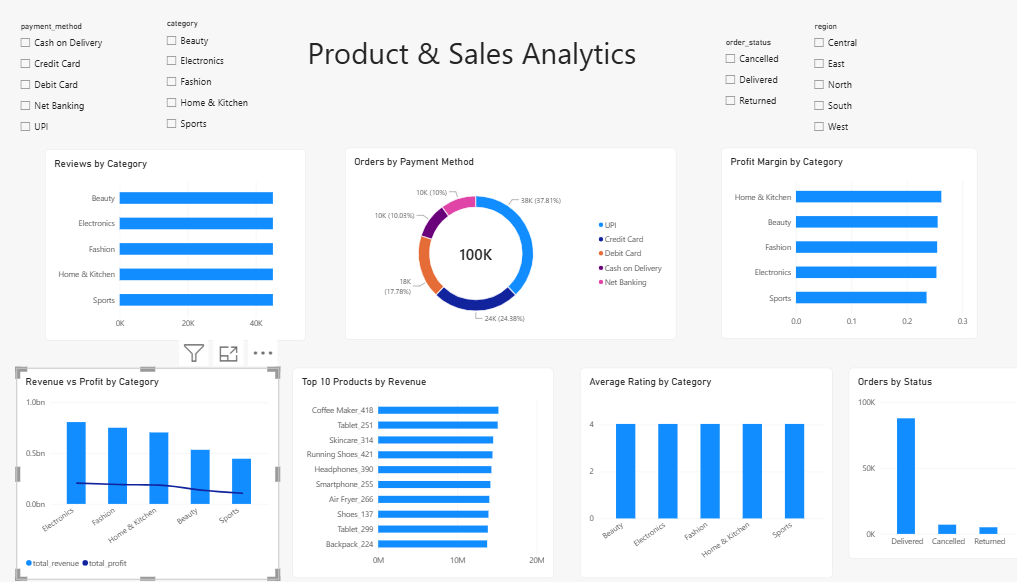

The page's visual inventory and layout, read from the dashboard file:
{"tool":"powerbi","page":{"name":"Product & Sales Analytics","canvas":[1920,1080],"ordinal":2},"visuals":[{"type":"lineClusteredColumnComboChart","title":"Revenue vs Profit by Category","fields":{"Category":["orders.category"],"Y":["orders.total_revenue"],"Y2":["orders.total_profit"]},"box":[85.1,684.9,475.4,381.8],"z":0},{"type":"barChart","title":"Top 10 Products by Revenue","fields":{"Category":["products.product_name"],"Y":["orders.total_revenue"]},"box":[586.4,680.4,475,382],"z":1},{"type":"columnChart","title":"Average Rating by Category","fields":{"Category":["orders.category"],"Y":["customers.Average Rating"]},"box":[1108,680.4,458.8,382.7],"z":2},{"type":"barChart","title":"Reviews by Category","fields":{"Y":["customers.Total Reviews"],"Category":["orders.category"]},"box":[136.5,282,474.5,349.2],"z":3},{"type":"donutChart","title":"Orders by Payment Method","fields":{"Category":["orders.payment_method"],"Y":["orders.total_orders"]},"box":[682.7,279.8,602.1,349.2],"z":4},{"type":"columnChart","title":"Orders by Status","fields":{"Category":["orders.order_status"],"Y":["orders.total_orders"]},"box":[1598.1,680.4,322.3,346.9],"z":5},{"type":"barChart","title":"Profit Margin by Category","fields":{"Y":["customers.Category Profit Margin"],"Category":["orders.category"]},"box":[1365.4,279.8,465.6,346.9],"z":6},{"type":"slicer","fields":{"Values":["customers.region"]},"box":[1526.5,49.2,145.5,214.9],"z":7},{"type":"slicer","fields":{"Values":["orders.order_status"]},"box":[1365.4,80.6,136.5,165.6],"z":8},{"type":"slicer","fields":{"Values":["orders.payment_method"]},"box":[85.1,49.2,217.1,228.3],"z":9},{"type":"slicer","fields":{"Values":["orders.category"]},"box":[349.2,44.8,237.3,232.8],"z":10},{"type":"textbox","box":[613.3,69.4,622.2,98.5],"z":11}]}

Visuals, with their boxes in screenshot pixels (x1, y1, x2, y2), scaled from the page's 1920x1080 canvas onto the 1017x582 screenshot:
"Revenue vs Profit by Category" lineClusteredColumnComboChart: 45:369:297:575
"Top 10 Products by Revenue" barChart: 311:367:562:573
"Average Rating by Category" columnChart: 587:367:830:573
"Reviews by Category" barChart: 72:152:324:340
"Orders by Payment Method" donutChart: 362:151:681:339
"Orders by Status" columnChart: 846:367:1016:554
"Profit Margin by Category" barChart: 723:151:970:338
slicer - customers.region: 809:27:886:142
slicer - orders.order_status: 723:43:796:133
slicer - orders.payment_method: 45:27:160:150
slicer - orders.category: 185:24:311:150
textbox: 325:37:654:90
